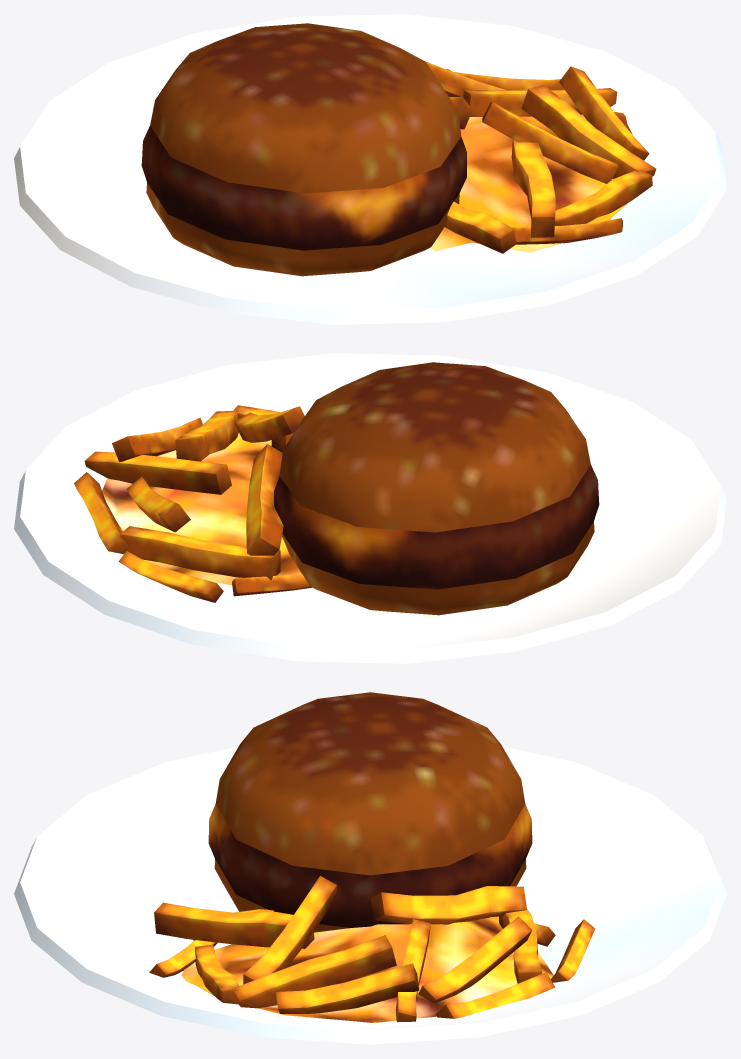
Rendered from d9eba01a-51f4-4c7f-91ae-db4c5053a61f.glb.
The picture shows the model from 3 angles, top to bottom: view 1: azimuth 30°, elevation 25°; view 2: azimuth 150°, elevation 25°; view 3: azimuth 270°, elevation 25°; orthographic projection.
Parts seen in each view (by area): view 1: BarFoodAndSnacksBurguer; view 2: BarFoodAndSnacksBurguer; view 3: BarFoodAndSnacksBurguer.
Boxes of the visible parts, bbox=[...] form: BarFoodAndSnacksBurguer: bbox=[14, 14, 726, 324]; BarFoodAndSnacksBurguer: bbox=[14, 353, 726, 663]; BarFoodAndSnacksBurguer: bbox=[14, 692, 726, 1044].
Size of what is drawn, in the model's own units: 0.4594 by 0.1292 by 0.4594.
1 material, 1 textured.
